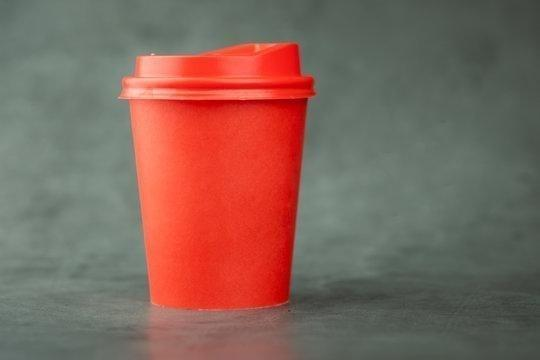cup-disposable: (118, 38, 319, 317)
